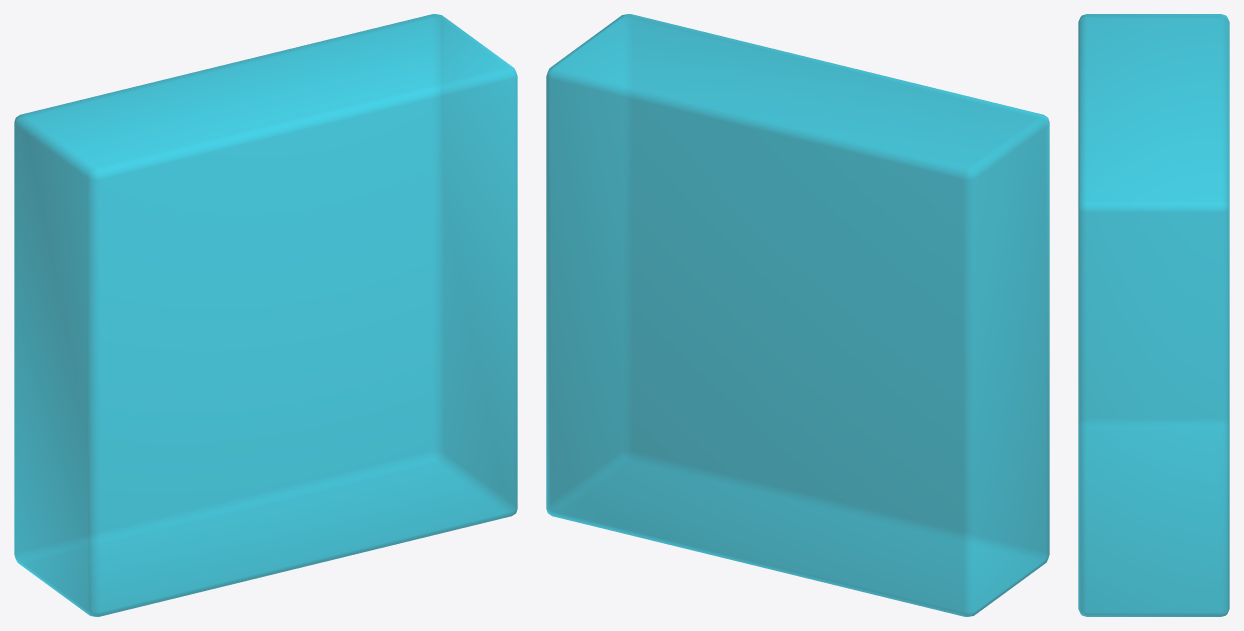
The model's file is selector_visualizer.gltf.
3 renders of one model, left to right at view 1: azimuth 30°, elevation 25°; view 2: azimuth 150°, elevation 25°; view 3: azimuth 270°, elevation 25°, orthographic. The views are drawn at different scales.
Visible parts, largest first — view 1: Cube.039; view 2: Cube.039; view 3: Cube.039.
Boxes of the visible parts, x1,y1,x2,y2 form: Cube.039: (14, 14, 517, 616); Cube.039: (546, 14, 1049, 616); Cube.039: (1078, 14, 1229, 616).
Size of the model in its own units: 6.35 by 6.35 by 2.1.
